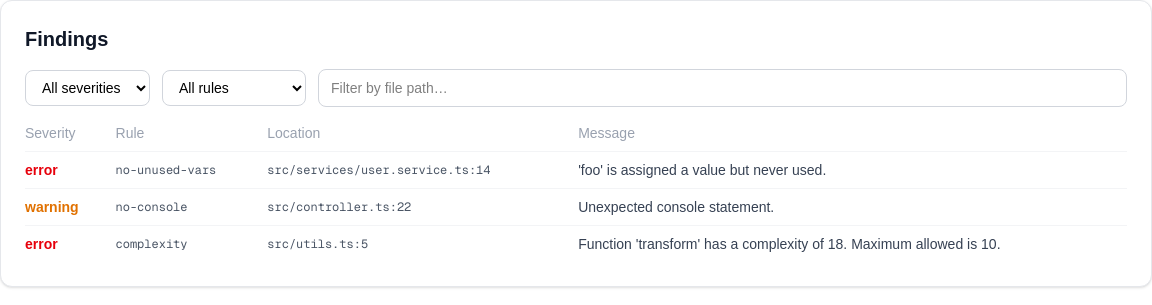
Test case: FindingsExplorer › filters findings by severity
Select "Warning" in the 1st dropdown at (88, 88), box x1=25 y1=70 x2=150 y2=106
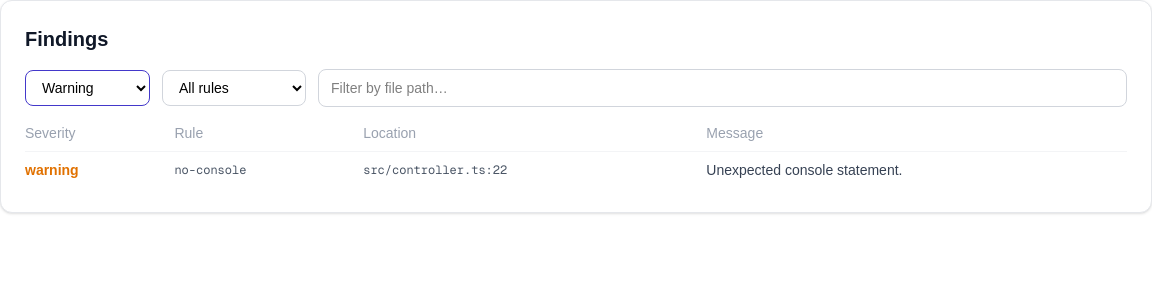
Expected: the text "Unexpected console statement." is shown, x1=706 y1=152 x2=1127 y2=188
Now the text "'foo' is assigned a value but never used" is gone
